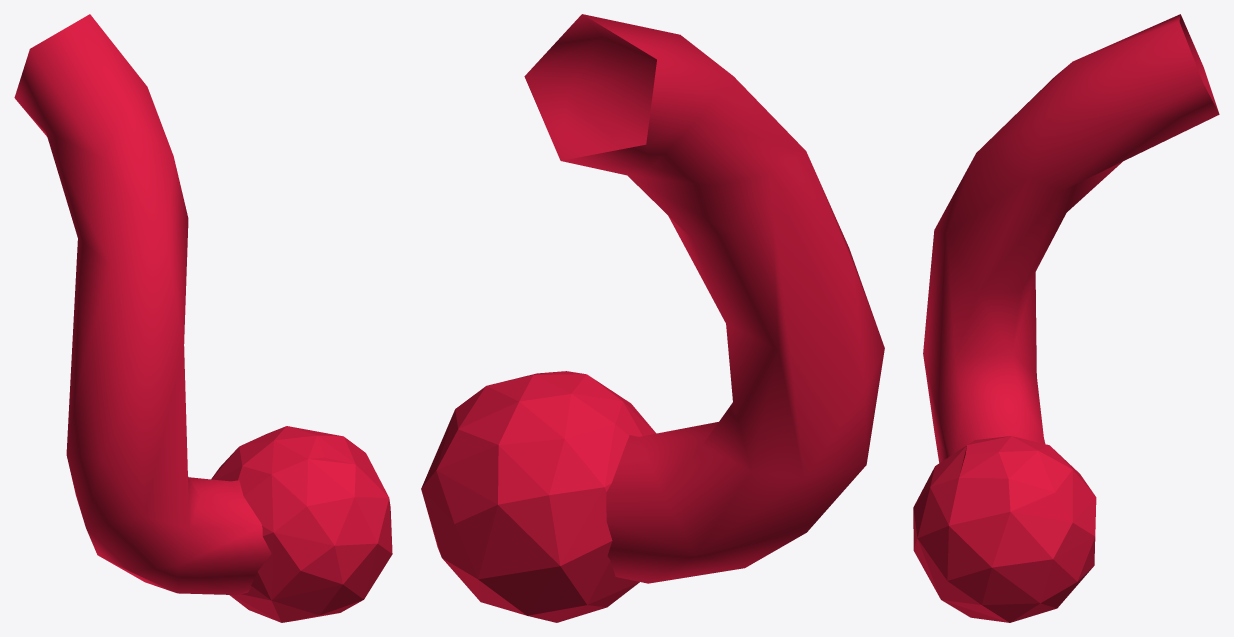
File: r_arm.obj
3 views of the same model, side by side, from view 1: azimuth 30°, elevation 25°; view 2: azimuth 150°, elevation 25°; view 3: azimuth 270°, elevation 25° (orthographic). The views are drawn at different scales.
Parts seen in each view (by area): view 1: r_arm.001_Sphere.006; view 2: r_arm.001_Sphere.006; view 3: r_arm.001_Sphere.006.
Part boxes in pixels (x1,y1,x2,y2): r_arm.001_Sphere.006: (14, 14, 392, 622); r_arm.001_Sphere.006: (421, 14, 884, 622); r_arm.001_Sphere.006: (913, 14, 1219, 622).
Bounding box in the file's own units: 0.4154 × 0.6849 × 0.3539.
